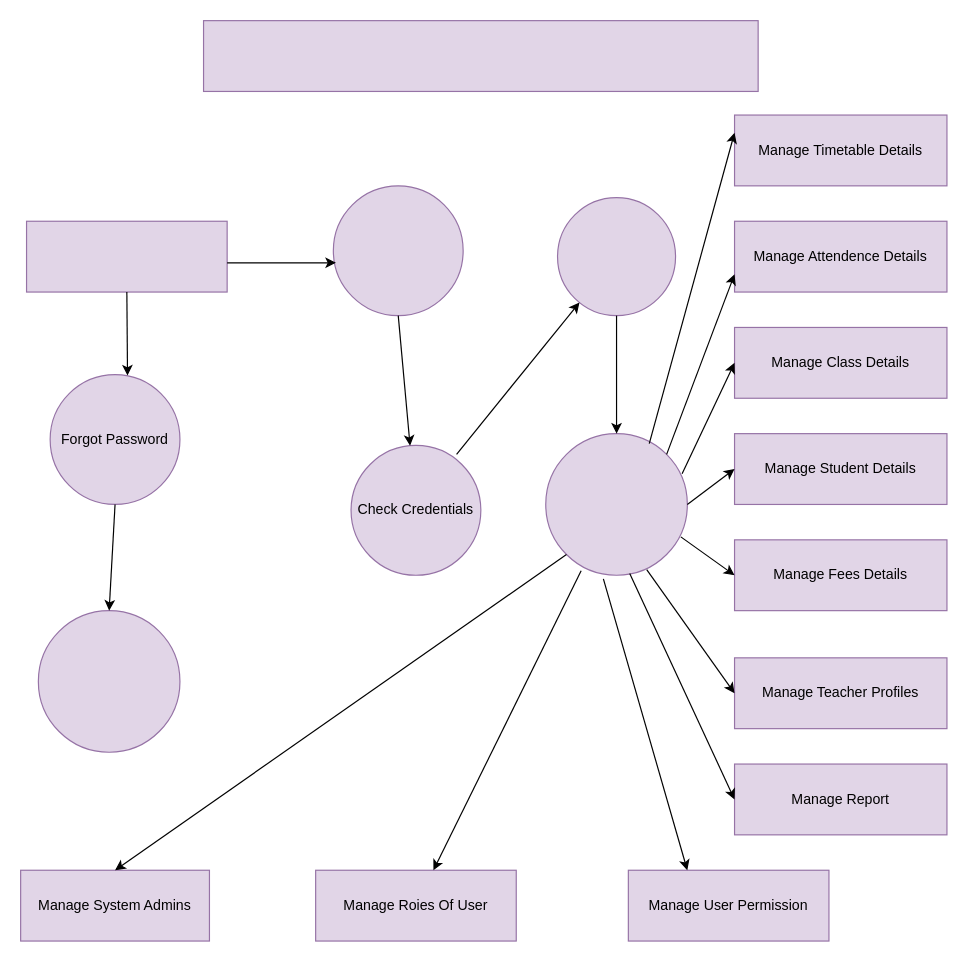
Image size: 968x962. Some labels were removed from this diagram. Here are the shapes that lost their labels. From the top down, the centre of each, then its label:
At point 480,55: "Student Information System".
At point 126,256: "Admin".
At point 397,250: "Login to System".
At point 616,256: "Check Roles of Access".
At point 616,503: "Manage Modules".
At point 108,680: "Send Email to User".
